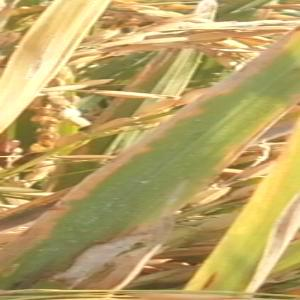2 BacterialBlight: (198, 57, 275, 153), (238, 189, 300, 292)
